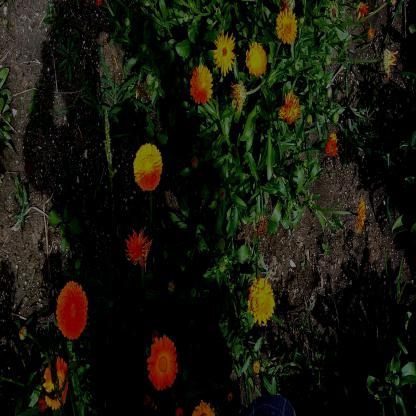marigold: (56, 280, 88, 340), (147, 335, 177, 391), (42, 356, 68, 410), (134, 141, 162, 191), (247, 274, 275, 324), (124, 228, 150, 271), (190, 62, 214, 105), (214, 30, 236, 75), (275, 6, 297, 46), (245, 40, 267, 77), (280, 90, 300, 125), (357, 196, 365, 232)
